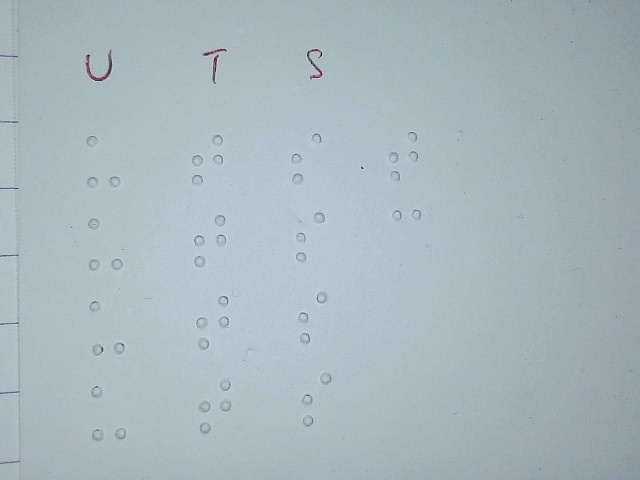S: (289, 130, 324, 185), (299, 371, 333, 426), (293, 209, 327, 263), (296, 290, 330, 344)
T: (194, 293, 230, 351), (197, 377, 233, 435), (190, 132, 225, 187), (192, 213, 227, 268)
U: (90, 384, 128, 442), (88, 299, 126, 355), (85, 133, 122, 188), (87, 216, 124, 271)
